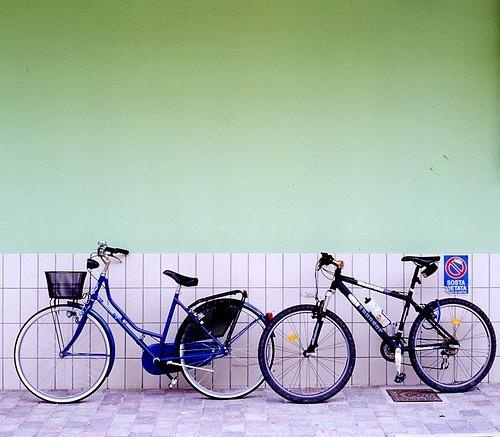bicycle: (12, 241, 276, 403), (257, 253, 497, 404)
